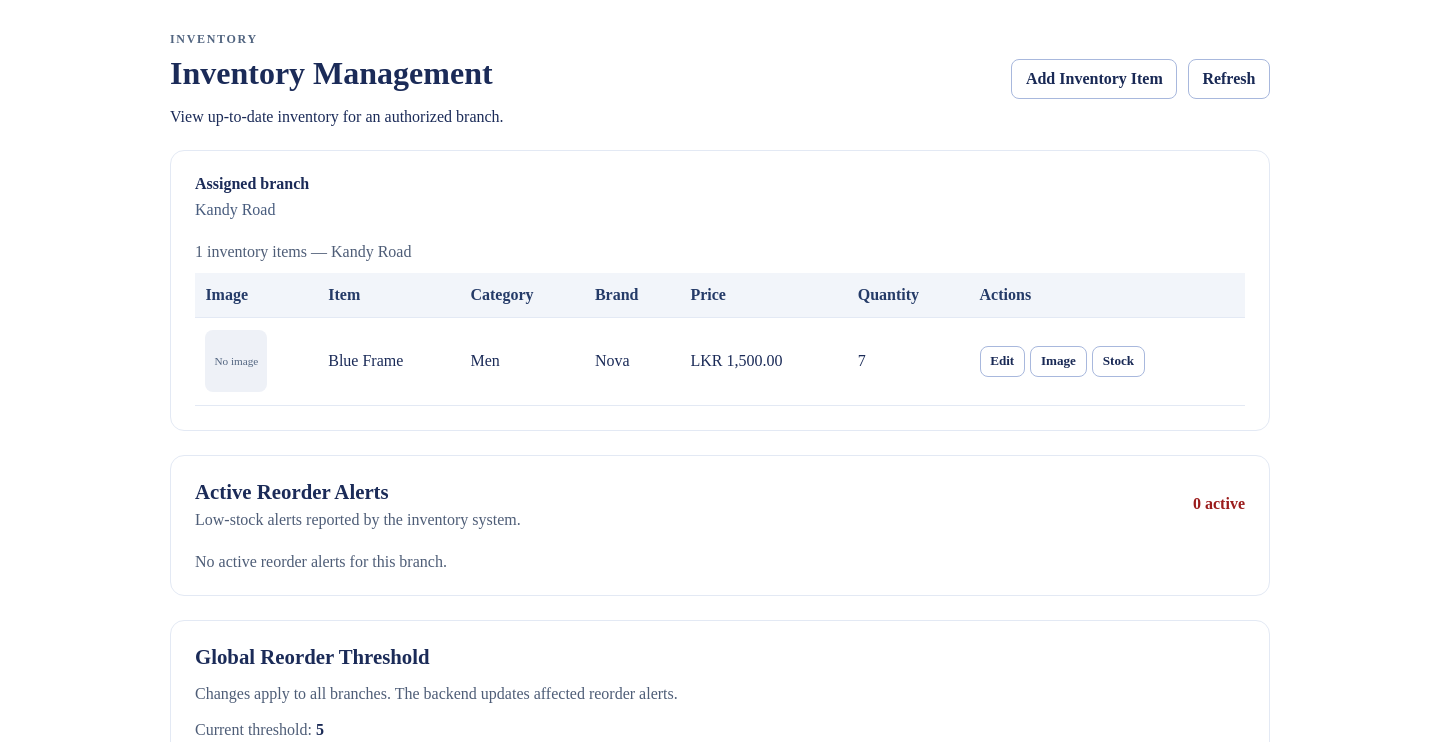
Inventory quantity management › rejects empty, negative, and fractional inputs (-2) without any request
Click the button named "Update quantity for Blue Frame".
click(1118, 361)  # box [1092,346,1145,377]
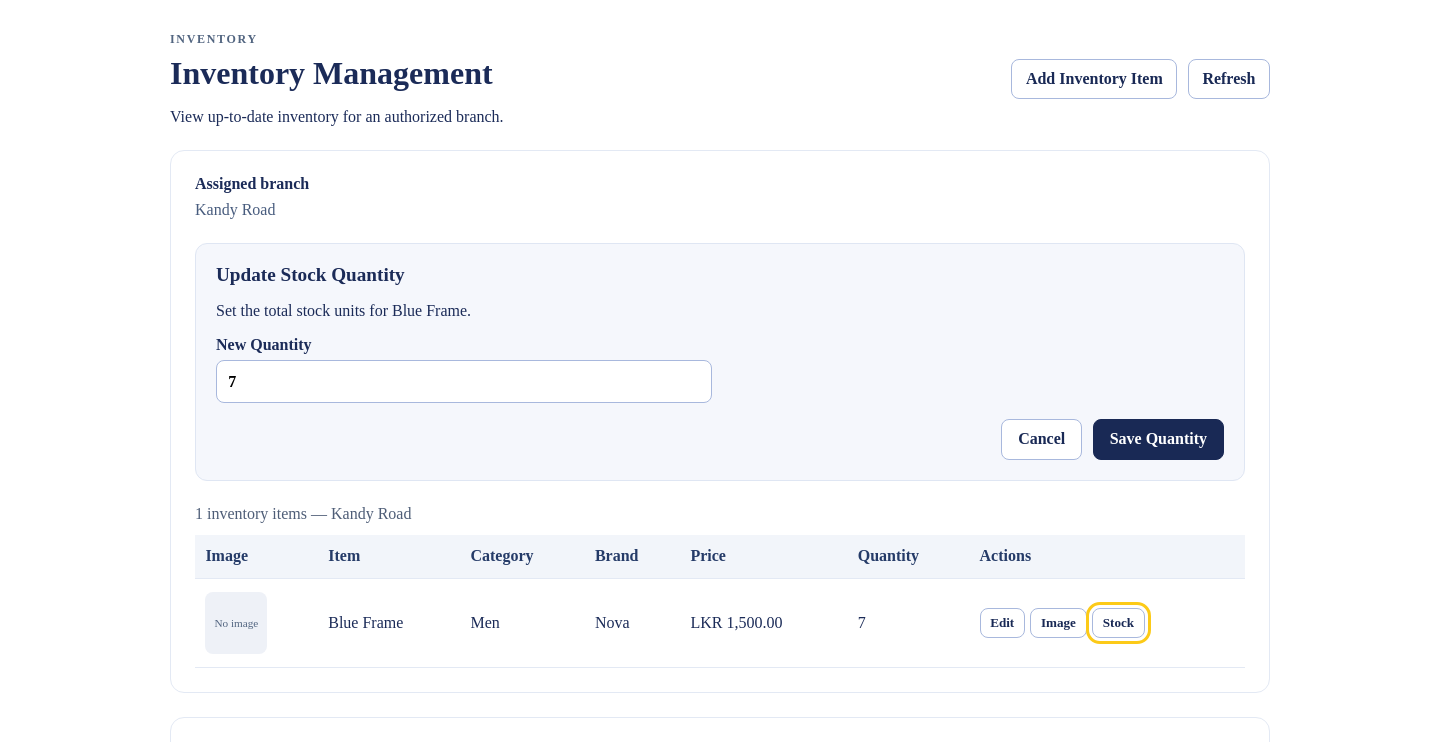
Replace the text in the number field labelled "New Quantity" with "-2" at (464, 382), box [216,360,712,403]
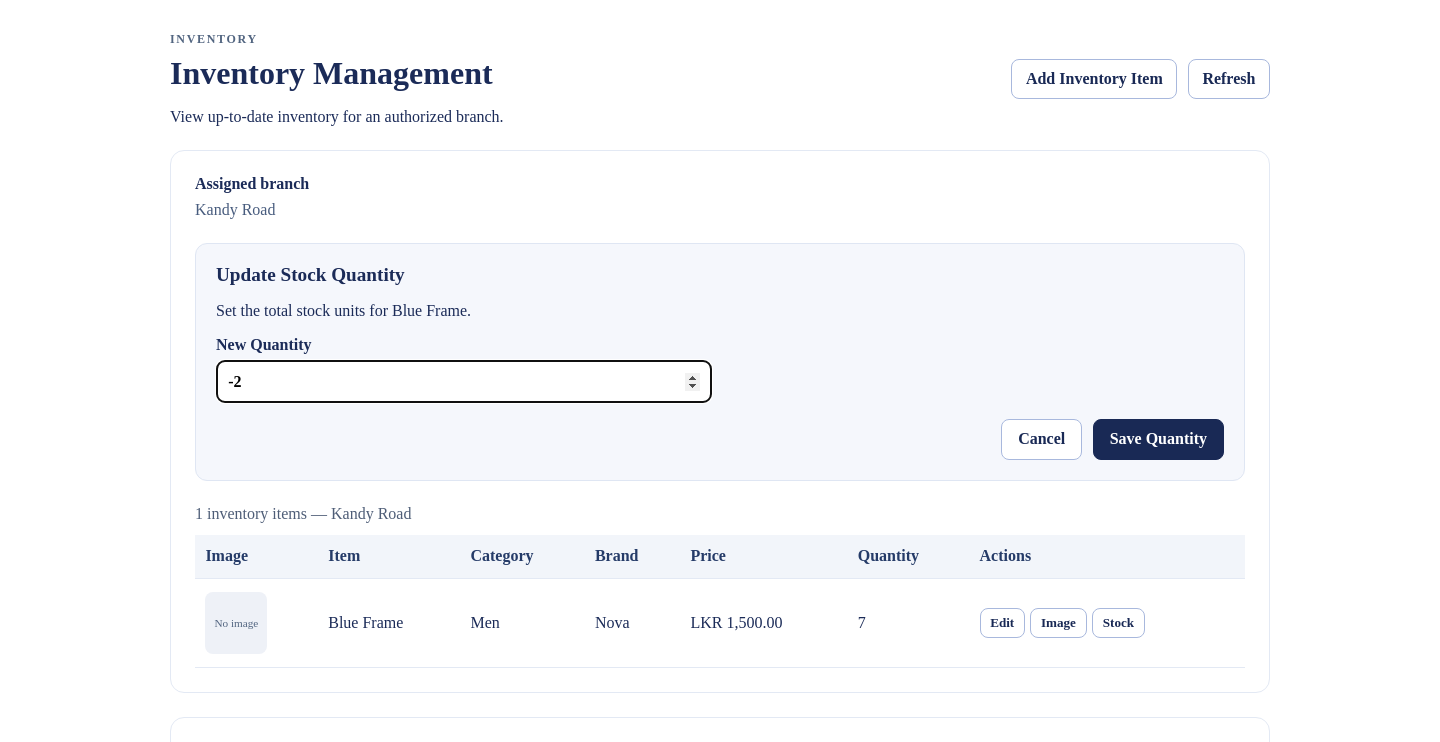
Click the button "Save Quantity".
click(1158, 439)  # box [1093,419,1224,460]
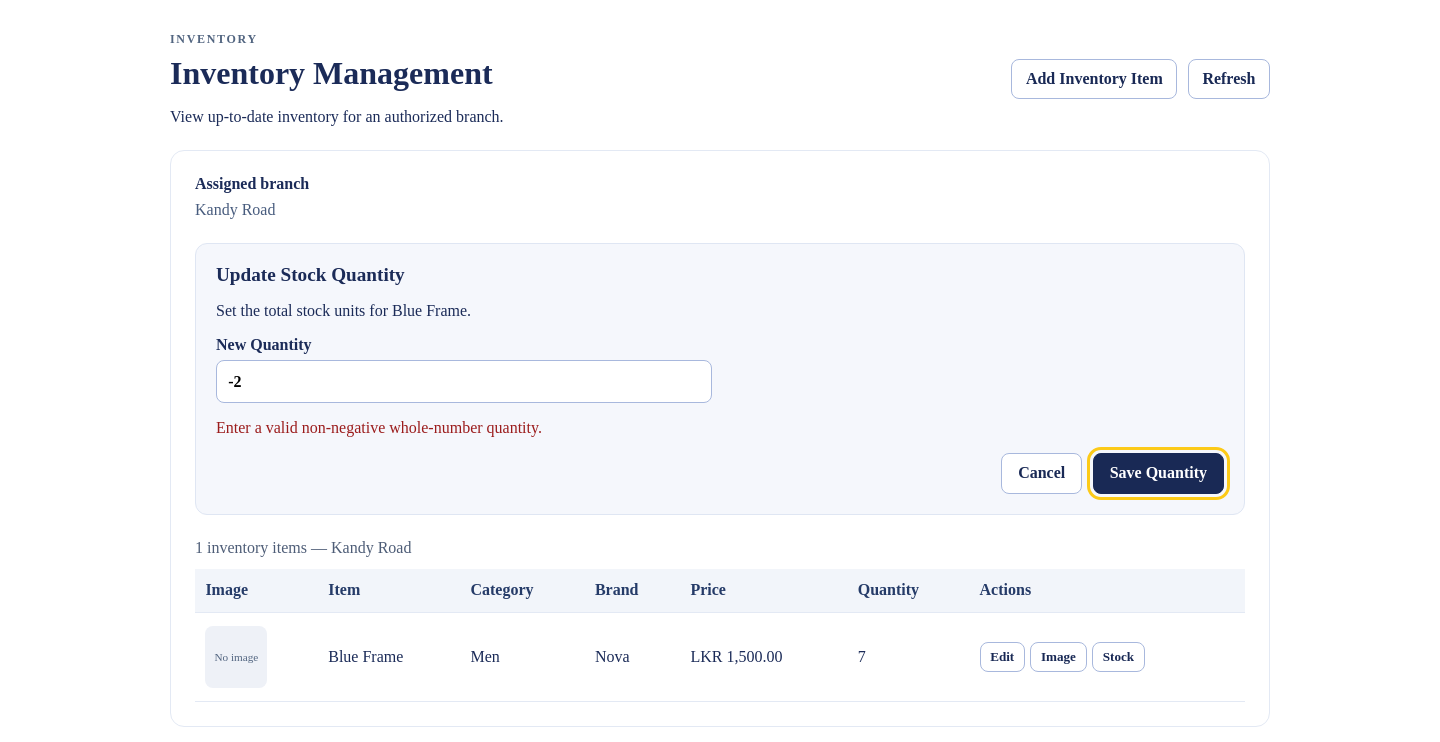
Expected: the message shows "non-negative whole-number quantity", [216,419,542,436]
